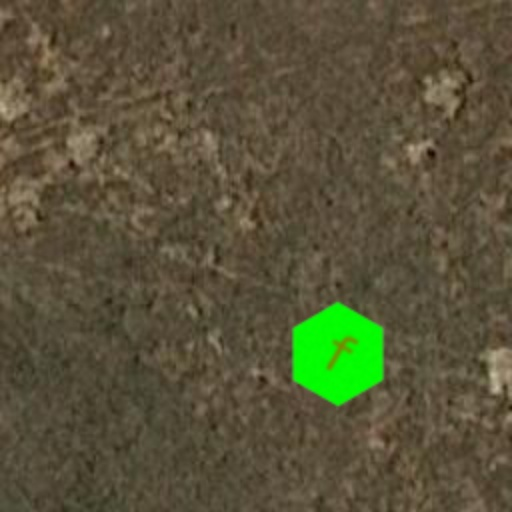hexagon: (266, 282, 410, 426)
